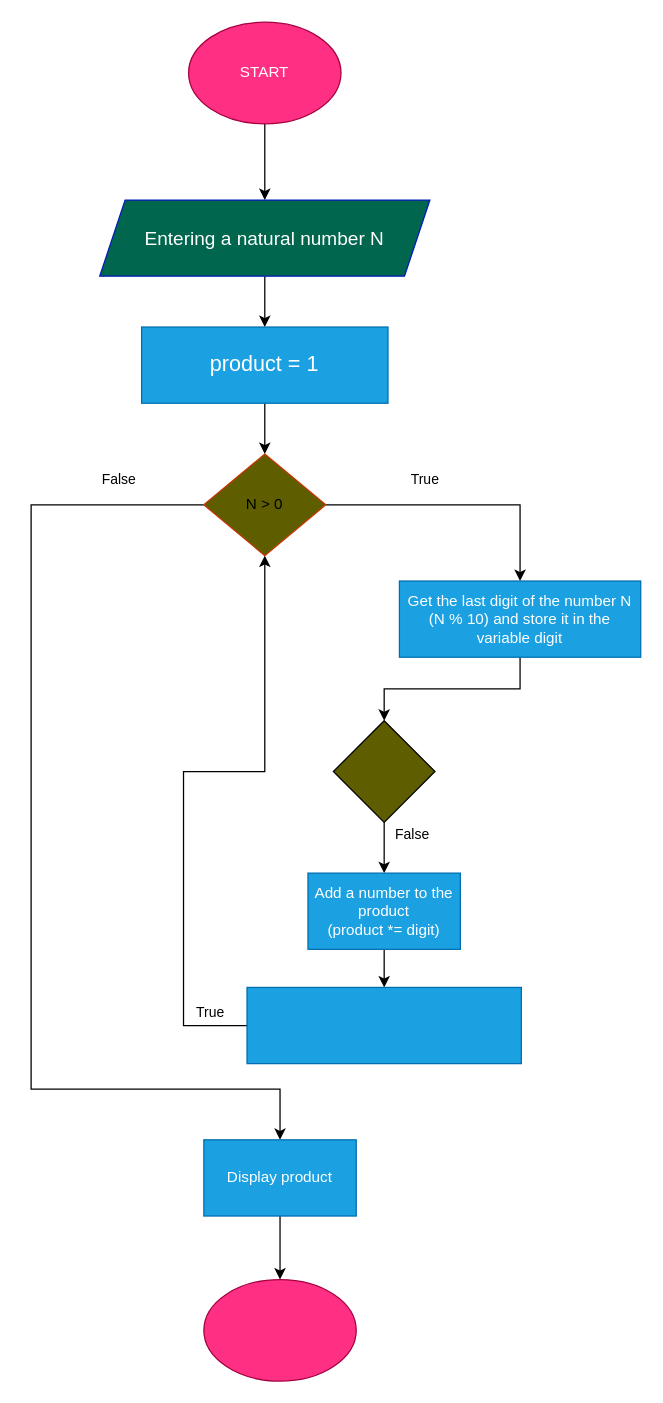
The diagram is 663 pixels wide and 1403 high, and some of its shapes have lost their labels. Each missing label, with the centre of its shape:
Delete the last digit of the number (N /= 10): [383,1025]
digit != 7: [383,770]
FINISH: [279,1329]
